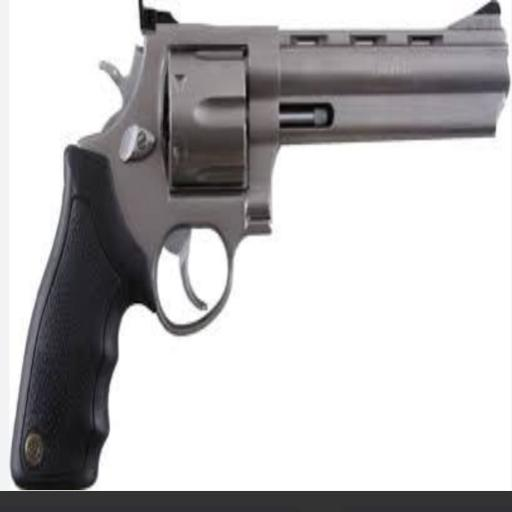Gun: (5, 3, 512, 491)
